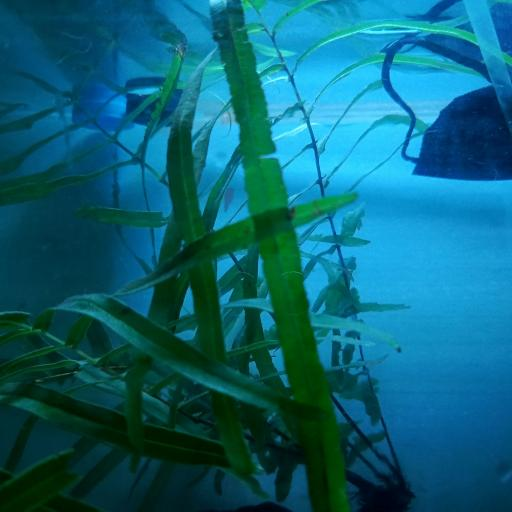bottle_cap: (71, 96, 133, 130), (132, 92, 185, 122)
mask: (379, 22, 512, 180)
plastic_straw: (464, 0, 512, 110)
